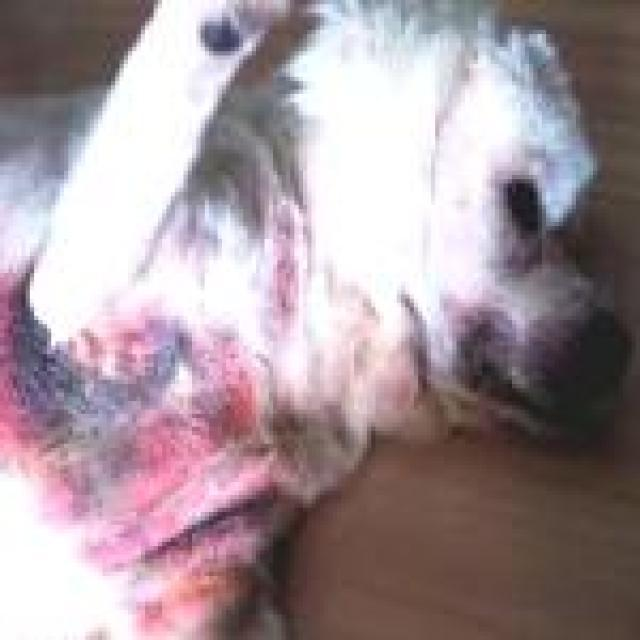fungal infection: (1, 224, 307, 603)
